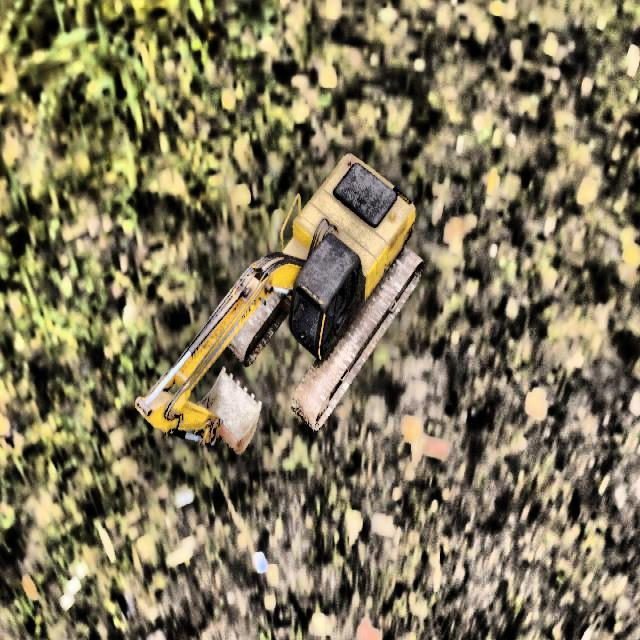excavator: (134, 152, 424, 454)
